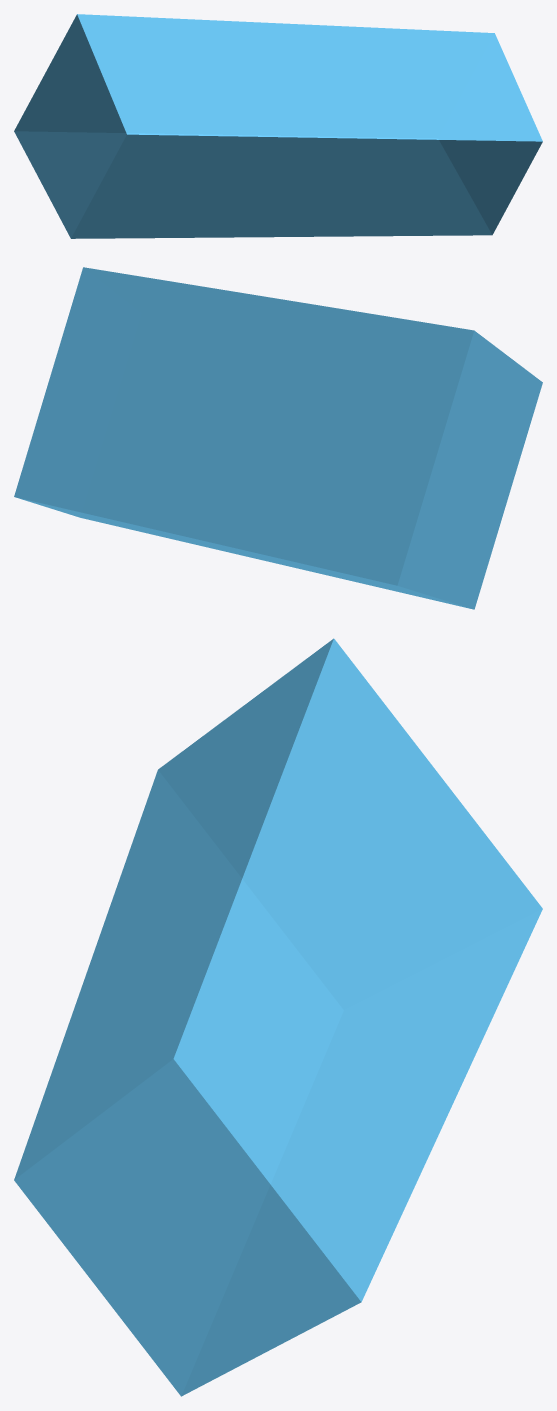
Rendered from Event_421278790_HErechit_1.fbx.
3 views of the same model, one above another, from view 1: azimuth 30°, elevation 25°; view 2: azimuth 150°, elevation 25°; view 3: azimuth 270°, elevation 25° (orthographic). The views are drawn at different scales.
Visible parts, largest first — view 1: Model; view 2: Model; view 3: Model.
Boxes of the visible parts, x1,y1,x2,y2 form: Model: [14, 14, 542, 238]; Model: [14, 267, 542, 609]; Model: [14, 638, 542, 1396].
Size of the model in its own units: 1.14 by 0.8136 by 0.8484.
